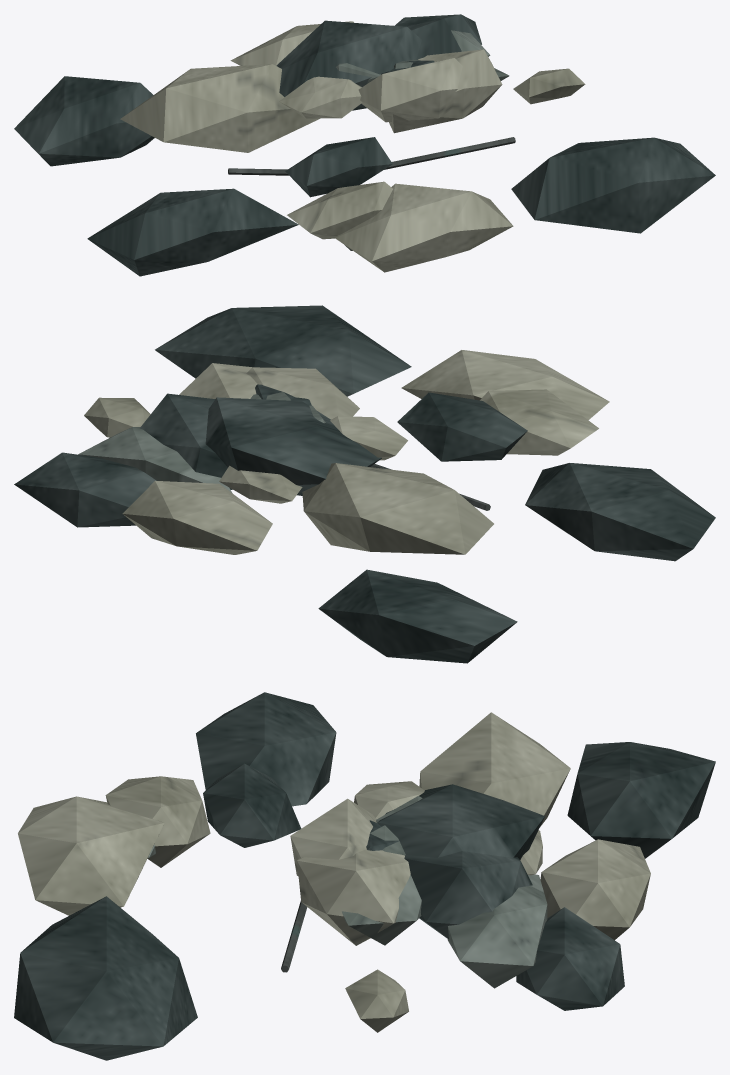
File: 0104_scree_pile_04.glb
3 views of the same model, one above another, from view 1: azimuth 30°, elevation 25°; view 2: azimuth 150°, elevation 25°; view 3: azimuth 270°, elevation 25° (orthographic). The views are drawn at different scales.
Visible parts, largest first — view 1: stone_dark, stone_light, iron, stone; view 2: stone_dark, stone_light, stone; view 3: stone_dark, stone_light, stone, iron.
Boxes of the visible parts, x1,y1,x2,y2 form: stone_dark: (14,14,715,276); stone_light: (120,21,585,272); iron: (228,137,515,175); stone: (336,30,509,250); stone_dark: (14,305,715,663); stone_light: (84,350,609,554); stone: (78,392,325,493); stone_dark: (14,692,715,1060); stone_light: (18,712,650,1032); stone: (148,796,547,988); iron: (281,901,307,972).
Size of the model in its own units: 2.95 by 0.6293 by 2.52.
4 materials, 4 textured.
